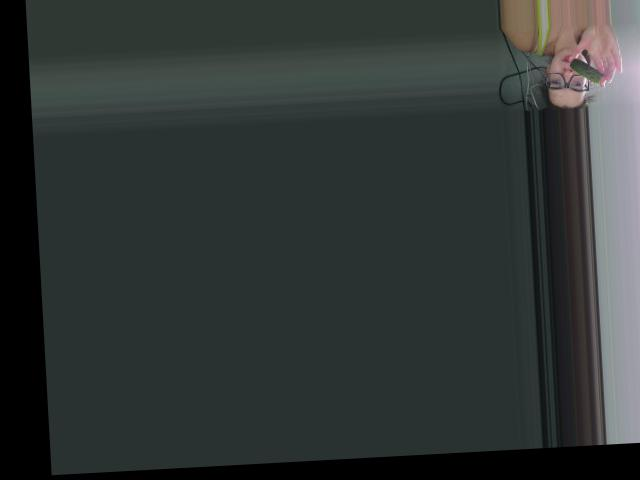cucumber: (569, 57, 602, 85)
